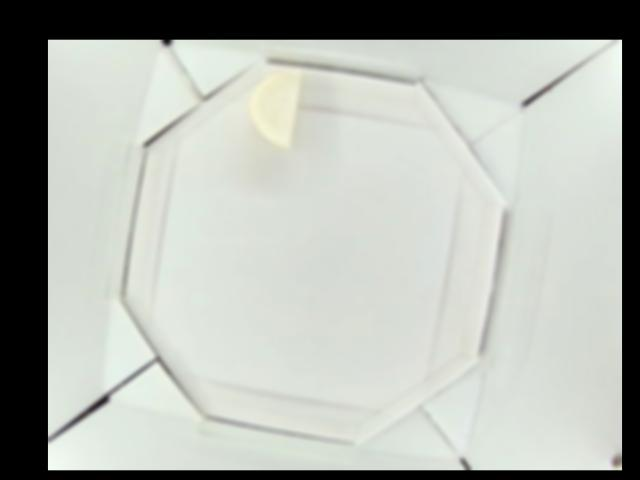Mooli: (252, 68, 302, 152)
